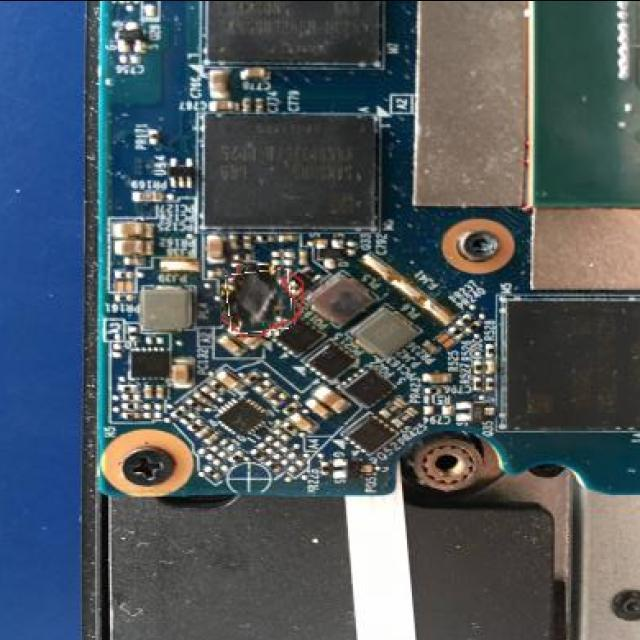Burn: (226, 270, 292, 332)
